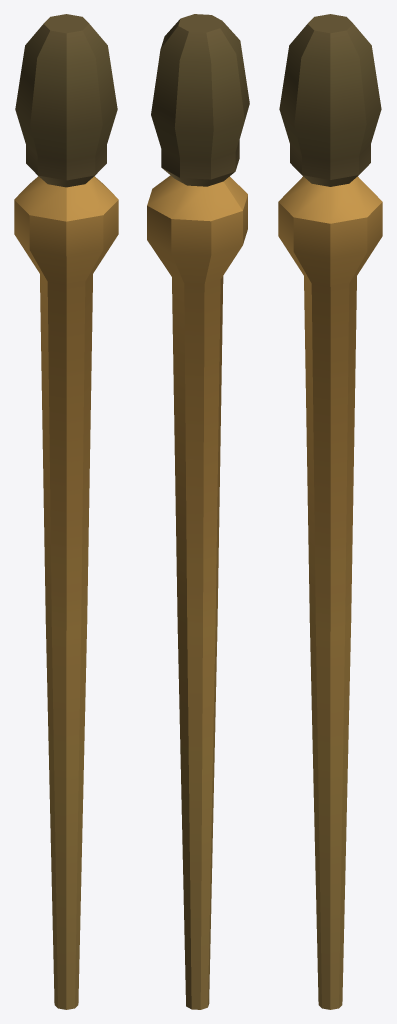
File: MuiscasGoranchachaBaston.fbx
3 views of the same model, side by side, from view 1: azimuth 90°, elevation 25°; view 2: azimuth 150°, elevation 25°; view 3: azimuth 270°, elevation 25° (orthographic).
Visible parts, largest first — view 1: GoranchachaBaston; view 2: GoranchachaBaston; view 3: GoranchachaBaston.
Part boxes in pixels (x1,y1,x2,y2): GoranchachaBaston: [14, 14, 118, 1009]; GoranchachaBaston: [147, 14, 249, 1009]; GoranchachaBaston: [278, 14, 382, 1009].
Bounding box in the file's own units: 24.02 × 244 × 23.54.
1 material, 1 textured.
